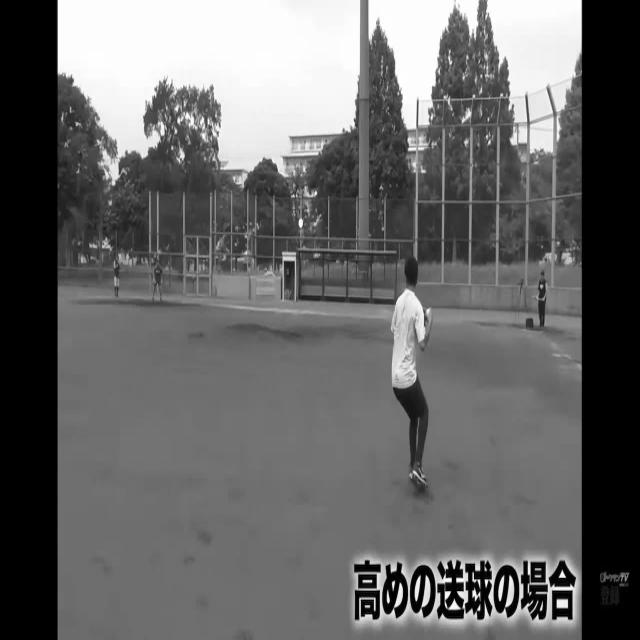baseball: (426, 304, 433, 322)
shoe: (408, 466, 430, 491)
